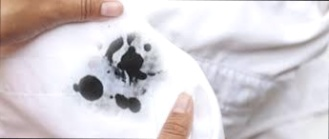ink: (120, 47, 146, 80), (77, 76, 104, 100), (116, 94, 140, 113), (109, 38, 122, 54)
